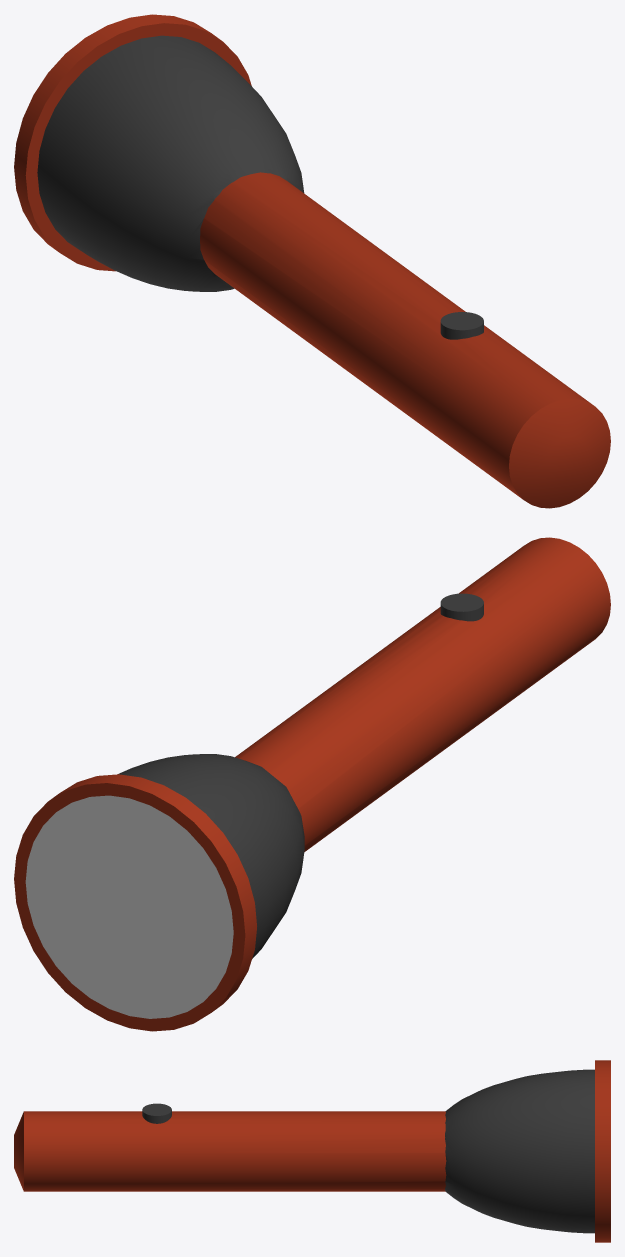
The model's file is PlayerFlashlight.fbx.
The picture shows the model from 3 angles, top to bottom: view 1: azimuth 30°, elevation 25°; view 2: azimuth 150°, elevation 25°; view 3: azimuth 270°, elevation 25°; orthographic projection. The views are drawn at different scales.
Parts seen in each view (by area): view 1: Cylinder.001; view 2: Cylinder.001; view 3: Cylinder.001.
Boxes of the visible parts, x1,y1,x2,y2 form: Cylinder.001: [14, 14, 610, 508]; Cylinder.001: [14, 537, 610, 1031]; Cylinder.001: [14, 1060, 610, 1242].
Size of the model in its own units: 9.07 by 9.07 by 29.69.
